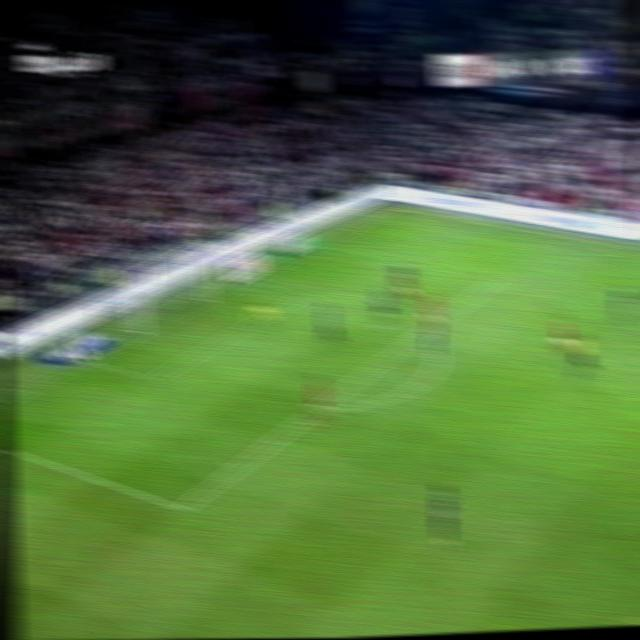bigarea_bottom_inner: (171, 494, 194, 520)
bigarea_top_inner: (487, 272, 505, 285)
bigarea_top_outter: (316, 239, 331, 247)
bottom_arc_area_intersection: (305, 403, 321, 416)
corner: (385, 205, 402, 211)
smallarea_bottom_inner: (142, 371, 160, 385)
smallarea_bottom_outter: (80, 354, 96, 363)
smallarea_top_inner: (298, 286, 314, 296)
top_arc_area_intersection: (415, 327, 431, 338)
